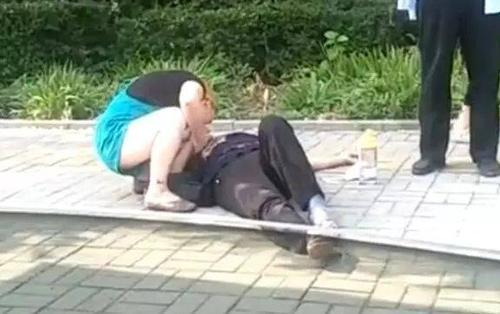fall: (167, 108, 371, 266)
